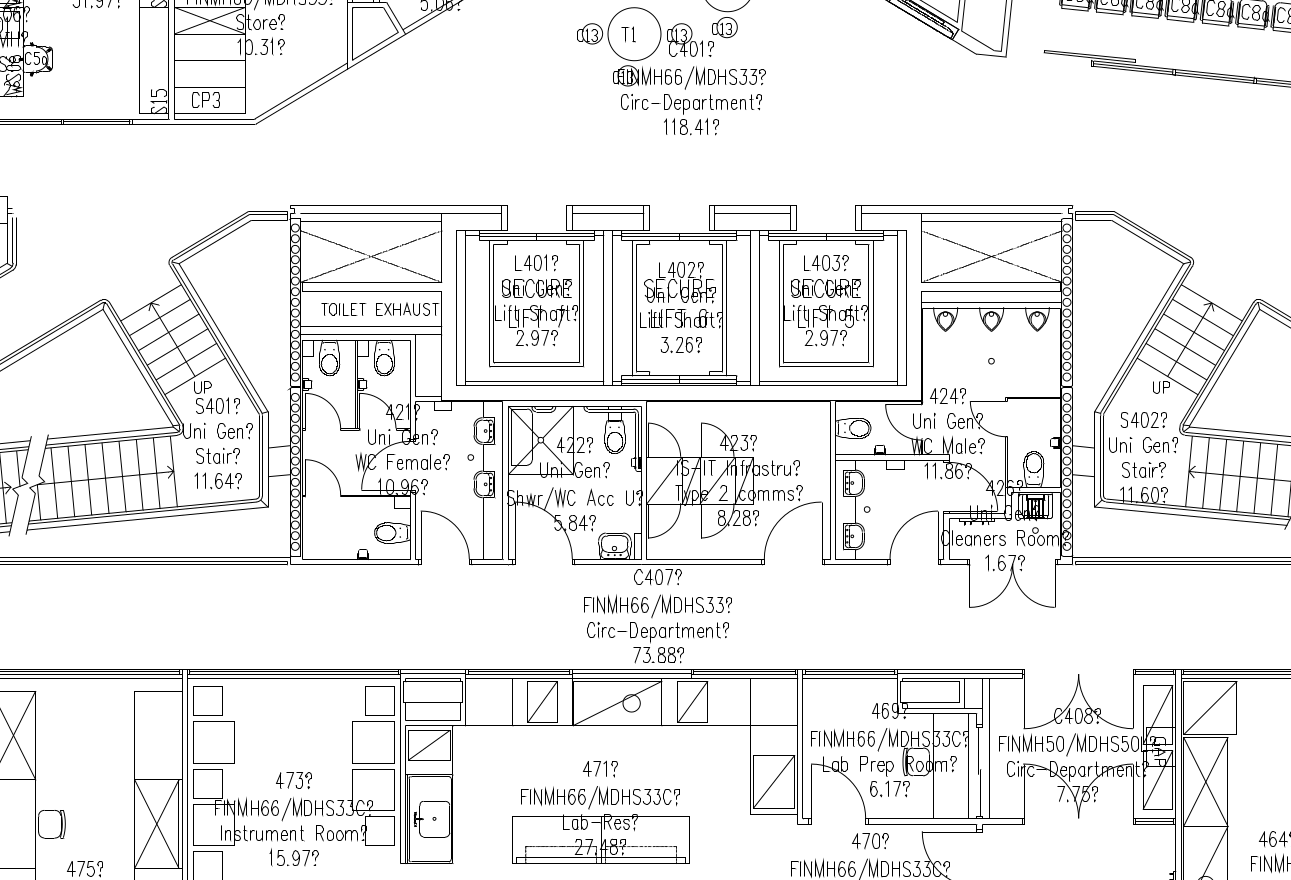door: (760, 499, 825, 568), (514, 497, 575, 565), (1019, 664, 1079, 731), (808, 758, 868, 825), (1076, 666, 1136, 733), (1077, 758, 1137, 825), (1019, 760, 1079, 827), (883, 504, 942, 570), (417, 501, 474, 567), (962, 557, 1013, 613), (1013, 558, 1061, 617), (303, 454, 345, 502), (304, 388, 346, 436), (965, 394, 1007, 442), (882, 402, 926, 444), (697, 413, 741, 455), (647, 413, 691, 455)
